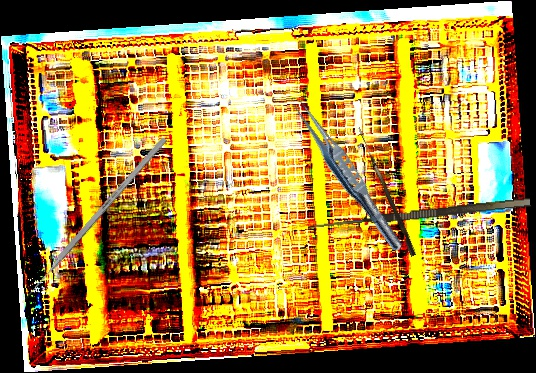Hook Surgical: (307, 197, 532, 243), (352, 127, 419, 257)
Pusher: (19, 136, 168, 305)
Tissue Forceps: (284, 93, 411, 257)
